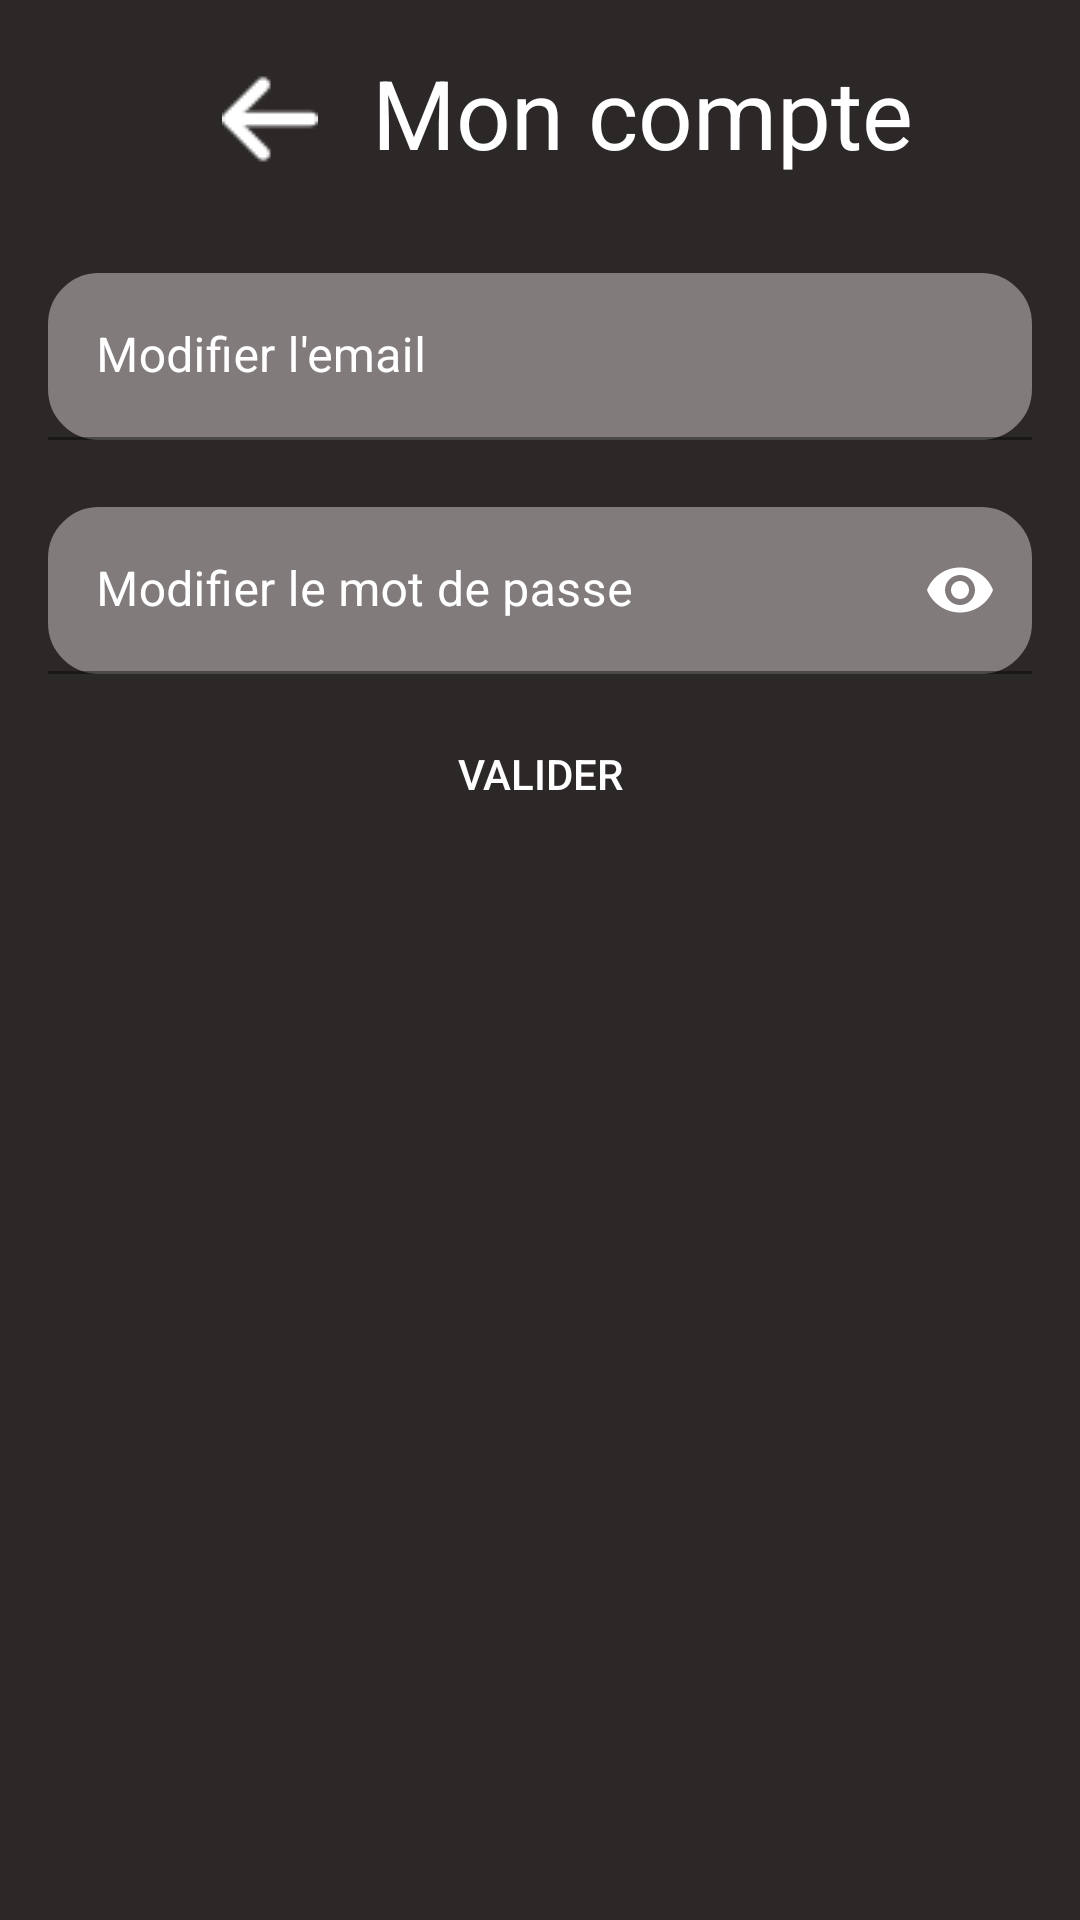

Where icons sit on this 1080w x 1920h app screen, as box(x1, y1, x2, y2):
Bouton de retour: box(222, 76, 318, 162)
